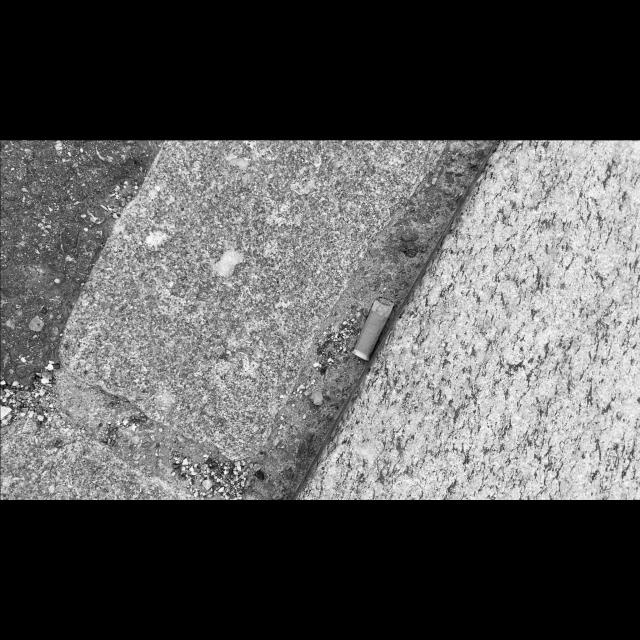cigarette: (352, 296, 395, 362)
